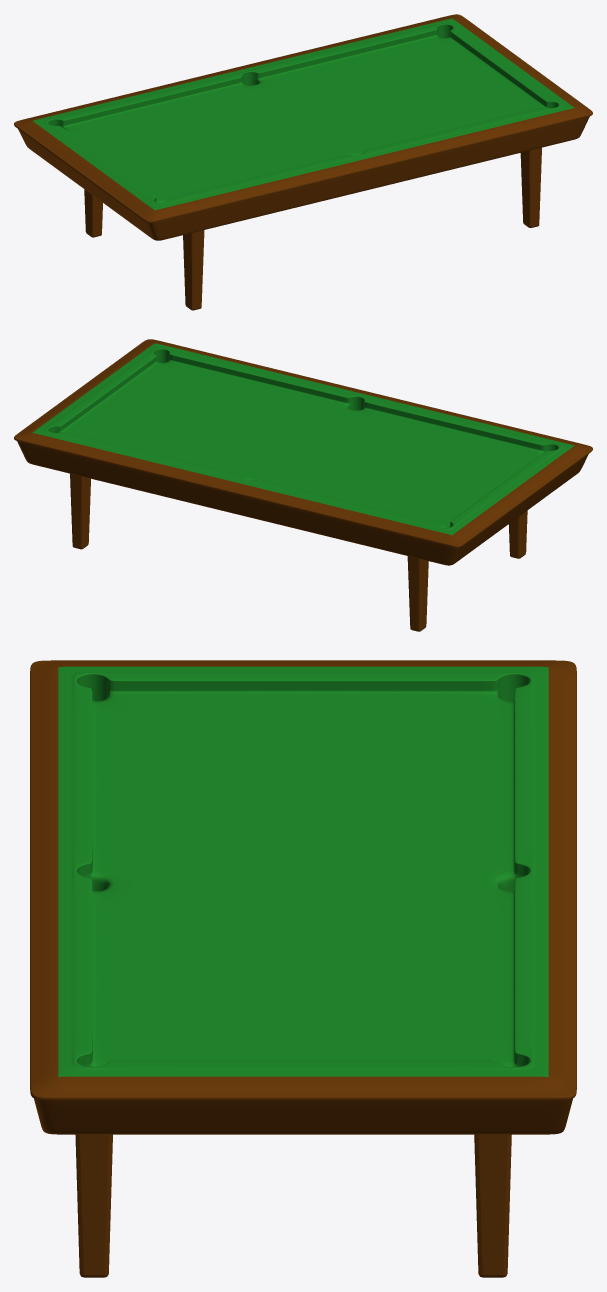
Rendered from Billiard.fbx.
3 renders of one model, top to bottom at view 1: azimuth 30°, elevation 25°; view 2: azimuth 150°, elevation 25°; view 3: azimuth 270°, elevation 25°, orthographic. The views are drawn at different scales.
Parts seen in each view (by area): view 1: Plane; view 2: Plane; view 3: Plane.
Boxes of the visible parts, x1,y1,x2,y2 form: Plane: [14, 14, 592, 310]; Plane: [14, 339, 592, 631]; Plane: [30, 660, 576, 1277].
Bounding box in the file's own units: 316 × 78.43 × 167.
